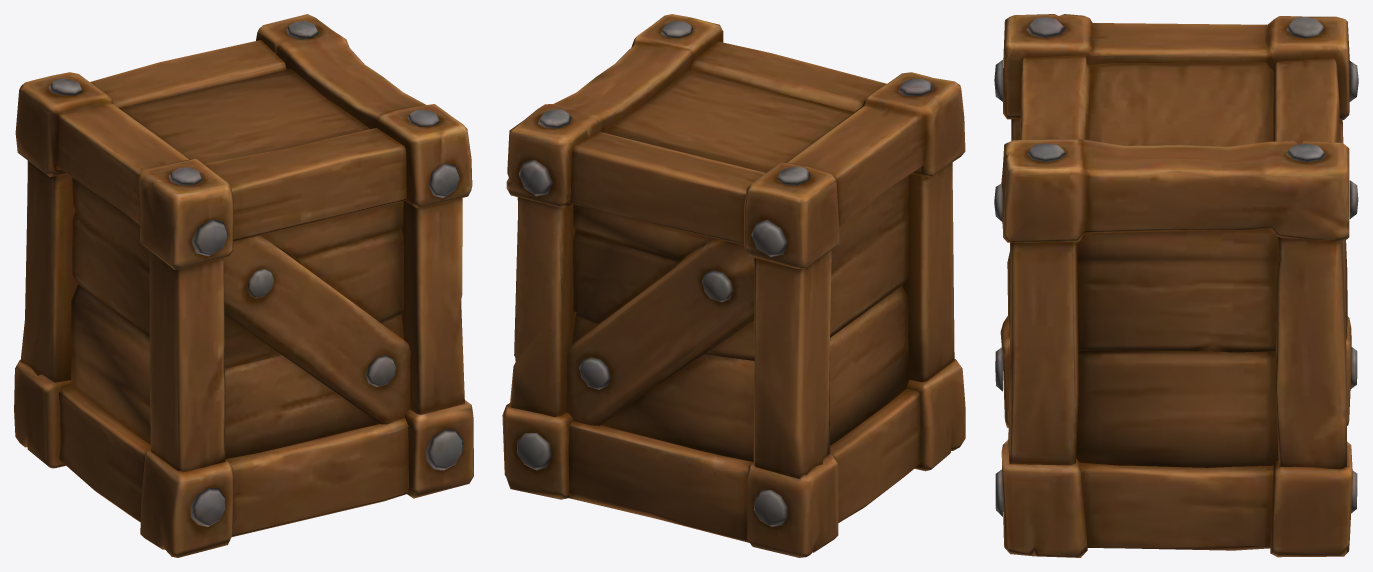
Rendered from caisse_bois.glb.
3 views of the same model, side by side, from view 1: azimuth 30°, elevation 25°; view 2: azimuth 150°, elevation 25°; view 3: azimuth 270°, elevation 25° (orthographic). The views are drawn at different scales.
Parts seen in each view (by area): view 1: geometry_0; view 2: geometry_0; view 3: geometry_0.
Boxes of the visible parts, x1,y1,x2,y2 form: geometry_0: (14, 14, 473, 557); geometry_0: (502, 14, 965, 557); geometry_0: (994, 14, 1358, 557).
Bounding box in the file's own units: 0.8125 × 0.9507 × 0.7793.
1 material, 1 textured.
